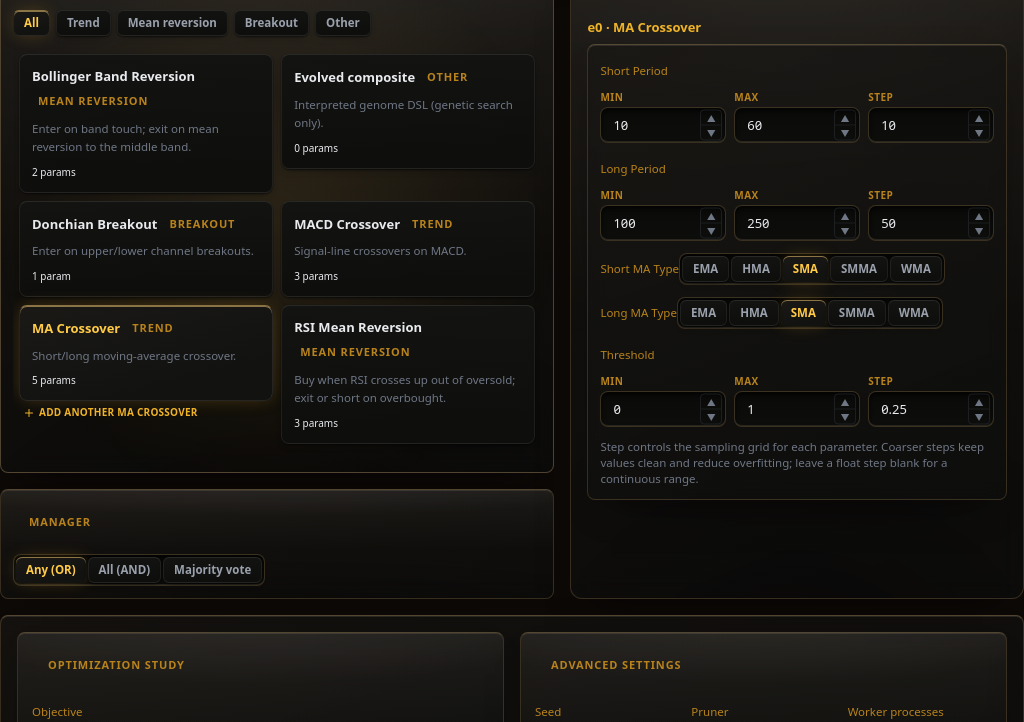
Test: OptimizeStrategyDetailPanel majority manager › surfaces vote_threshold search control when majority is selected
The width and height of the screenshot is (1024, 722).
(page scrolled)
Expected: the element with test id "entry-manager-selector" is shown, [0,489,554,599]
Click the button "RSI Mean Reversion": (408, 375) [281,305,535,444]
(page scrolled)
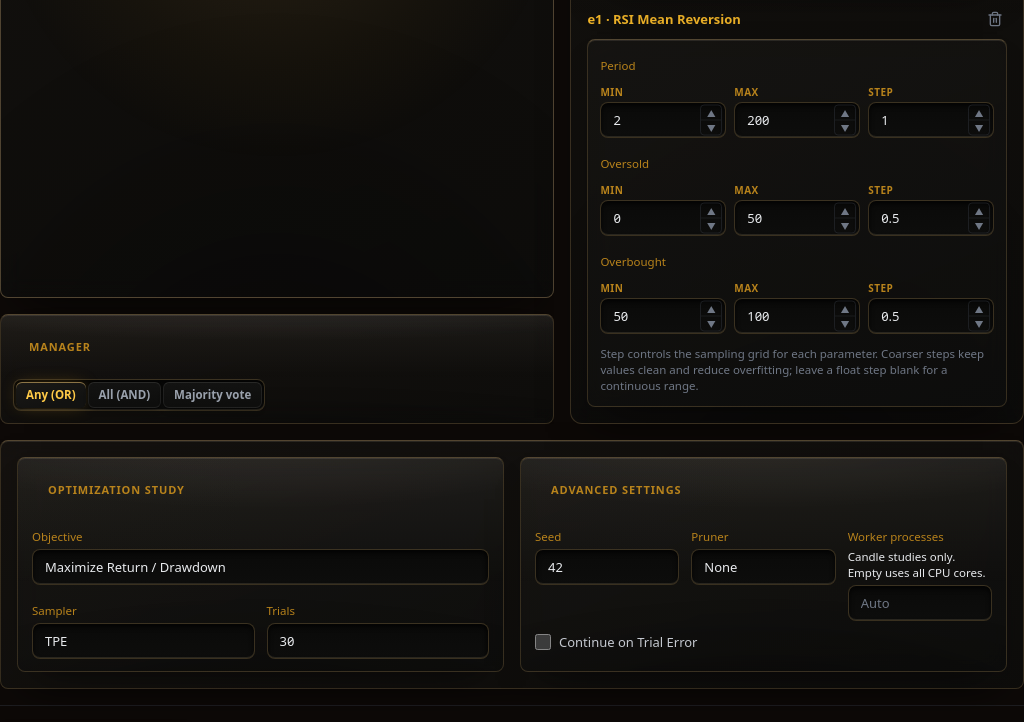
Click the radio button labelled "Majority vote": (213, 395) [163,382,262,408]
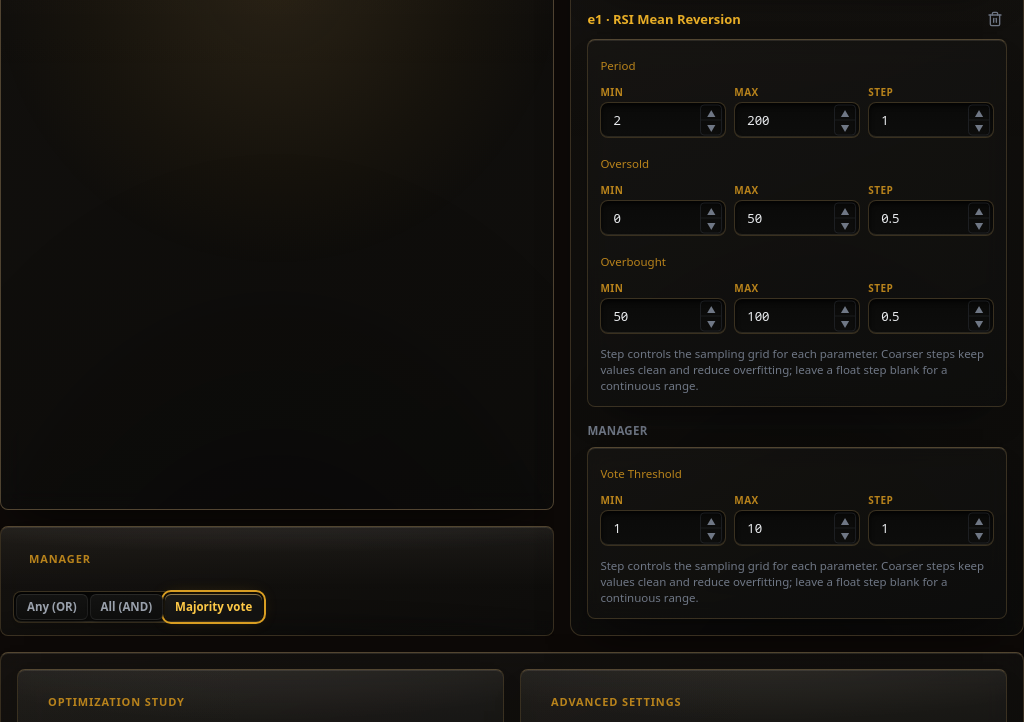
Expected: the text "Vote Threshold" is shown, [600,466,682,482]
